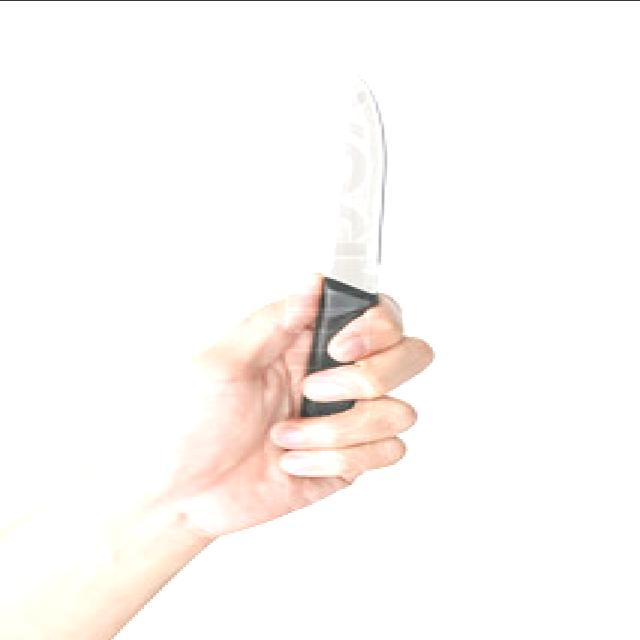knife: (292, 60, 436, 408)
